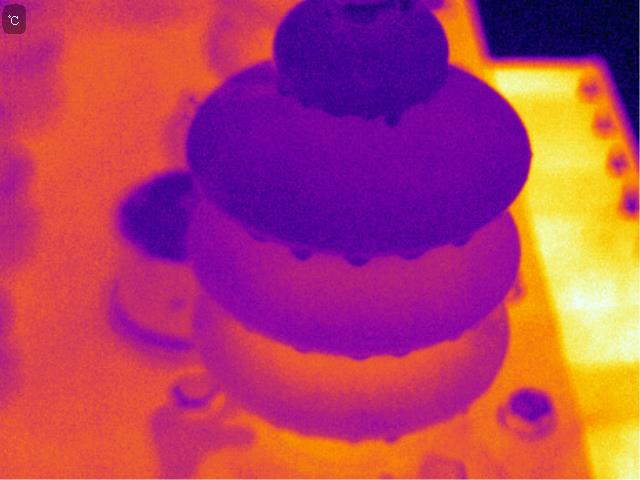Water: (318, 96, 353, 122), (287, 241, 315, 263), (396, 246, 430, 264), (295, 84, 315, 113), (344, 248, 371, 268), (243, 223, 267, 243), (288, 342, 318, 358), (381, 109, 407, 127), (444, 233, 473, 249), (387, 345, 414, 362), (347, 348, 372, 365), (442, 331, 464, 346), (381, 436, 404, 447)
